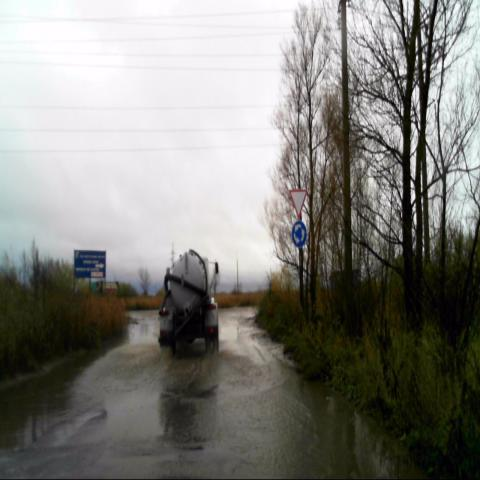4_3: (292, 220, 306, 248)
